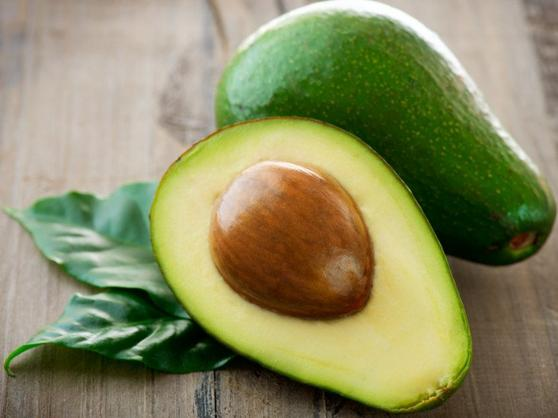avocado: (220, 3, 556, 251)
